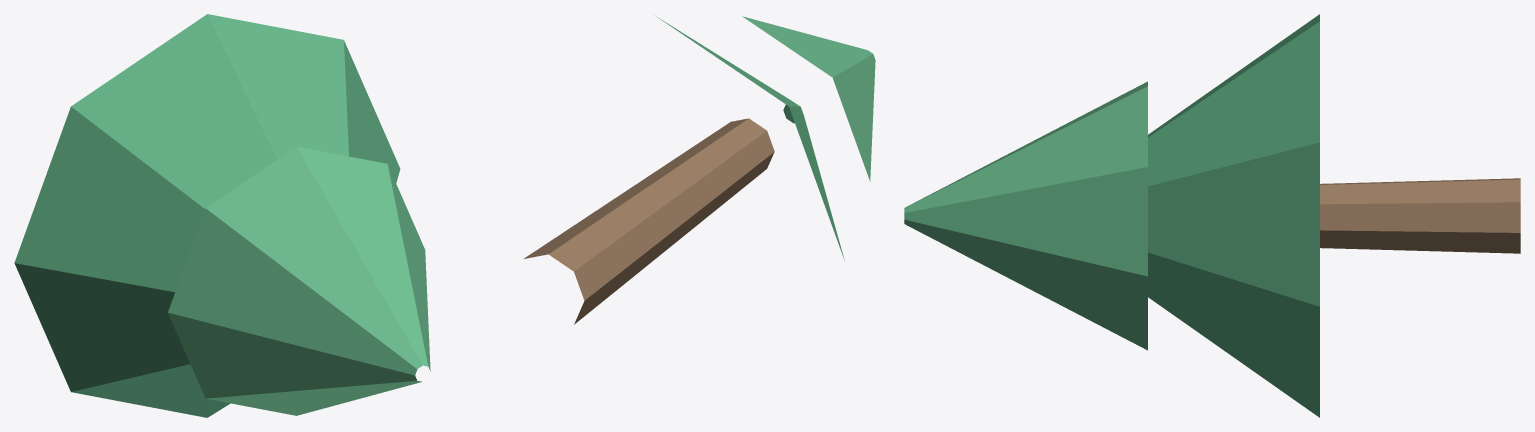
File: pine_tree_lod0.glb
3 views of the same model, side by side, from view 1: azimuth 30°, elevation 25°; view 2: azimuth 150°, elevation 25°; view 3: azimuth 270°, elevation 25° (orthographic). The views are drawn at different scales.
Visible parts, largest first — view 1: canopy_low, canopy_high; view 2: trunk, canopy_high, canopy_low; view 3: canopy_low, canopy_high, trunk.
Boxes of the visible parts, x1,y1,x2,y2 form: canopy_low: (14,14,400,417); canopy_high: (168,146,430,415); trunk: (524,118,774,324); canopy_high: (742,16,875,181); canopy_low: (656,16,844,259); canopy_low: (1148,14,1319,417); canopy_high: (904,81,1147,350); trunk: (1320,178,1520,253).
Bounding box in the file's own units: 3 × 3 × 4.3.
